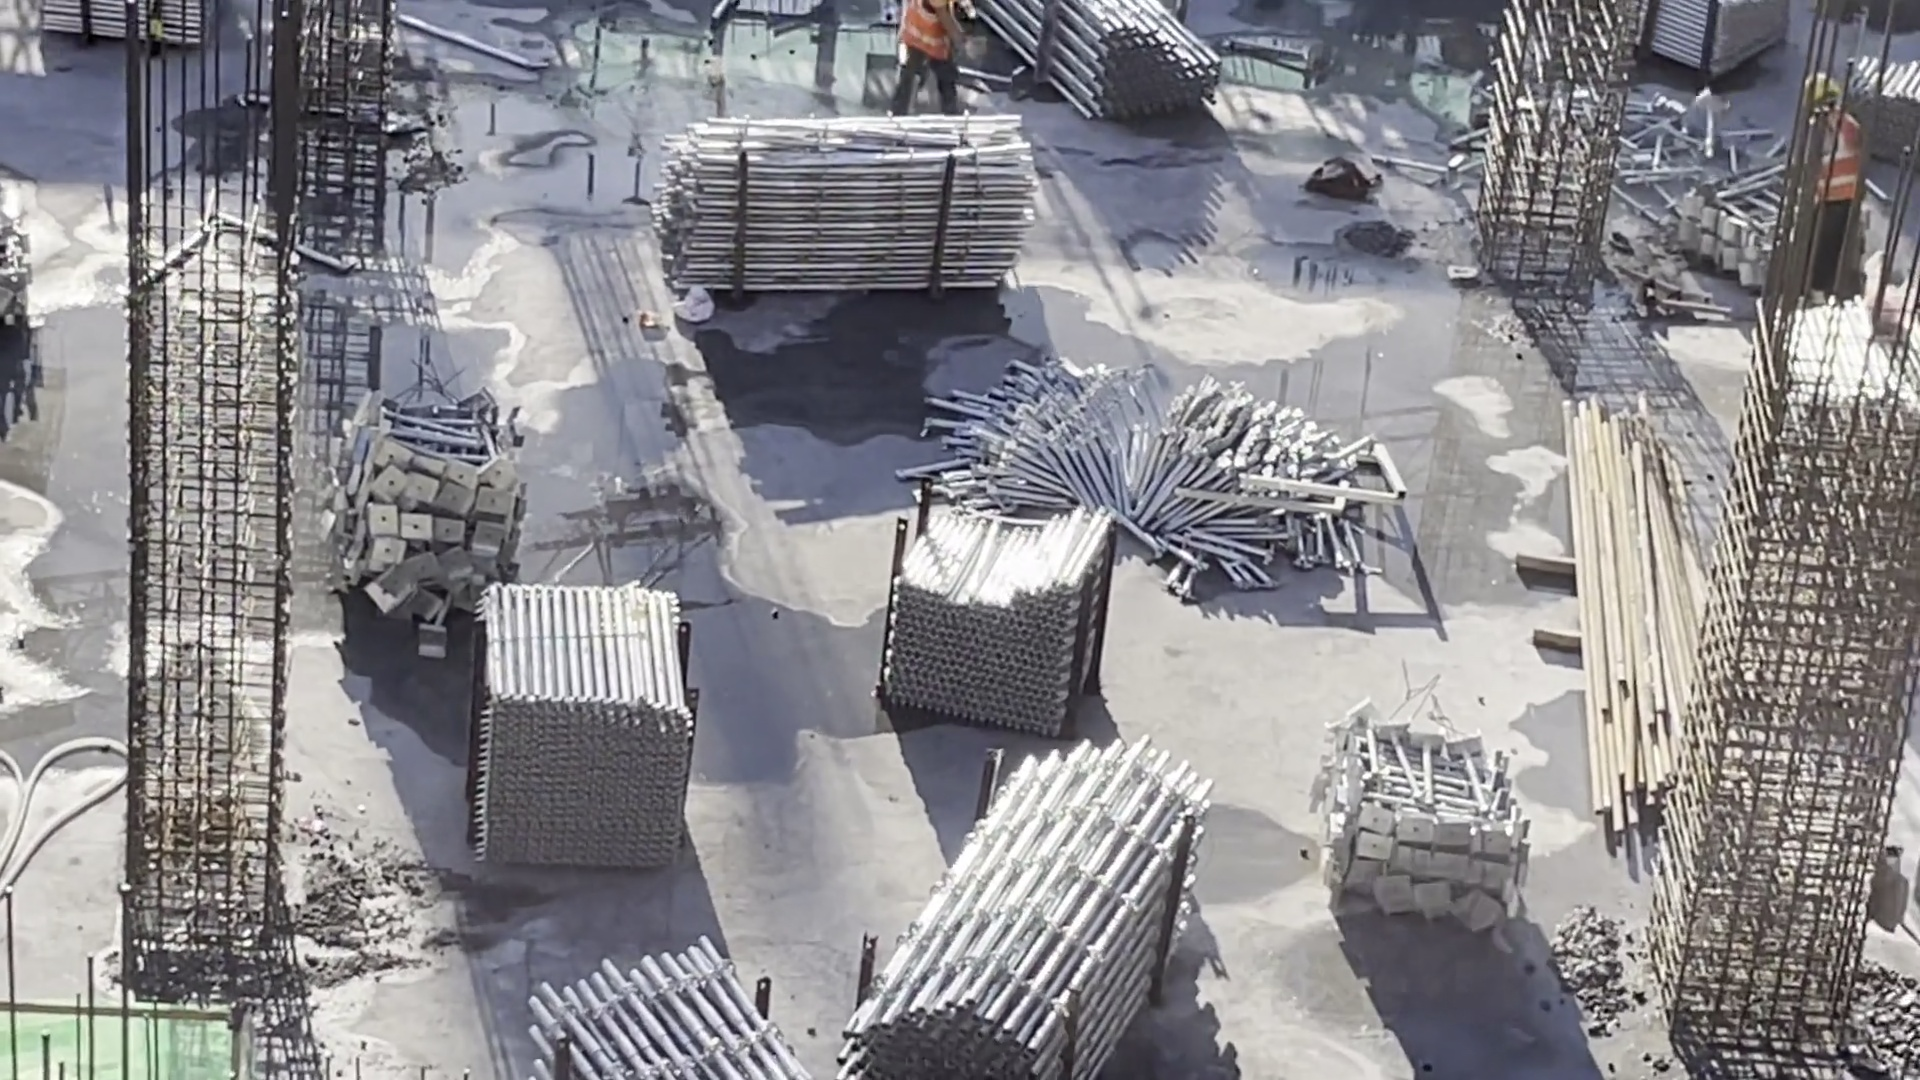helmet: (1799, 64, 1856, 106)
person: (1781, 58, 1885, 294), (874, 1, 984, 134)
scaffold: (844, 749, 1226, 1074), (956, 355, 1390, 594), (672, 108, 1021, 297), (469, 583, 688, 871), (896, 483, 1109, 738), (347, 397, 538, 632), (1326, 722, 1524, 927), (537, 935, 808, 1080), (995, 1, 1228, 116), (1676, 173, 1809, 268), (1665, 1, 1786, 83), (1840, 52, 1920, 164)
vest: (1802, 100, 1870, 199), (901, 1, 967, 63)
